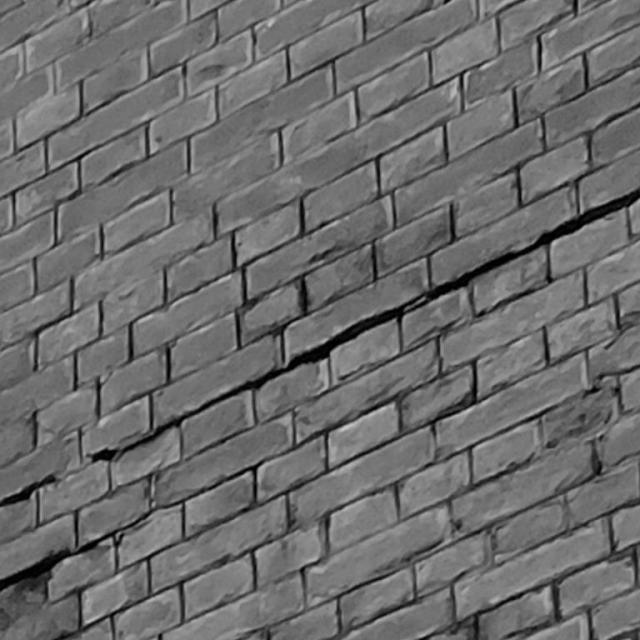crack: (85, 188, 639, 467), (1, 532, 110, 592), (1, 472, 62, 506)
